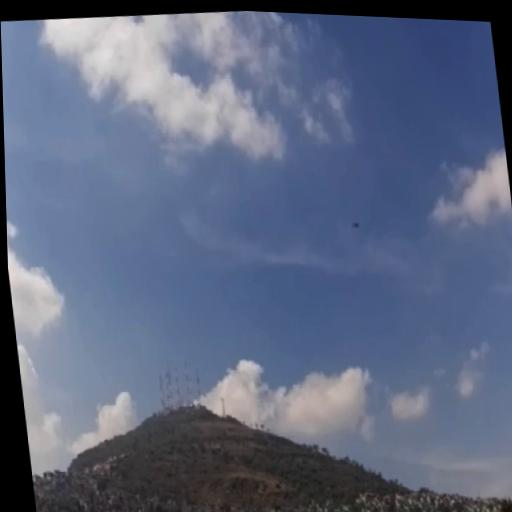drones: (348, 217, 364, 236)
